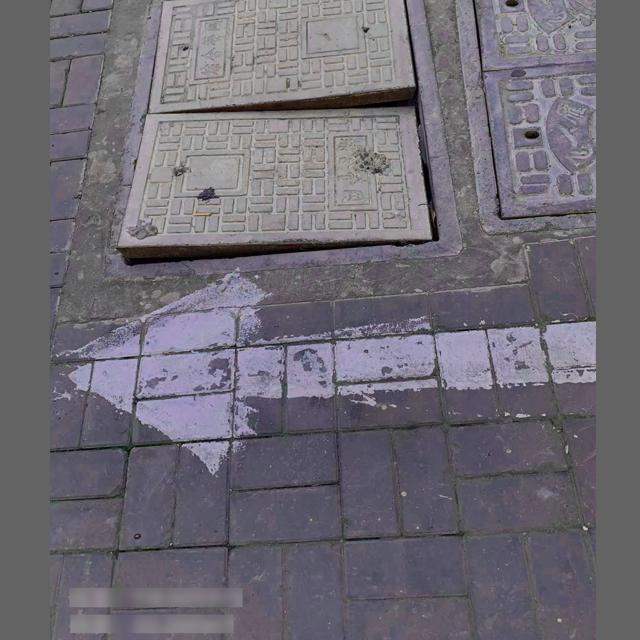good: (447, 0, 589, 237)
uncovered: (107, 0, 463, 272)
